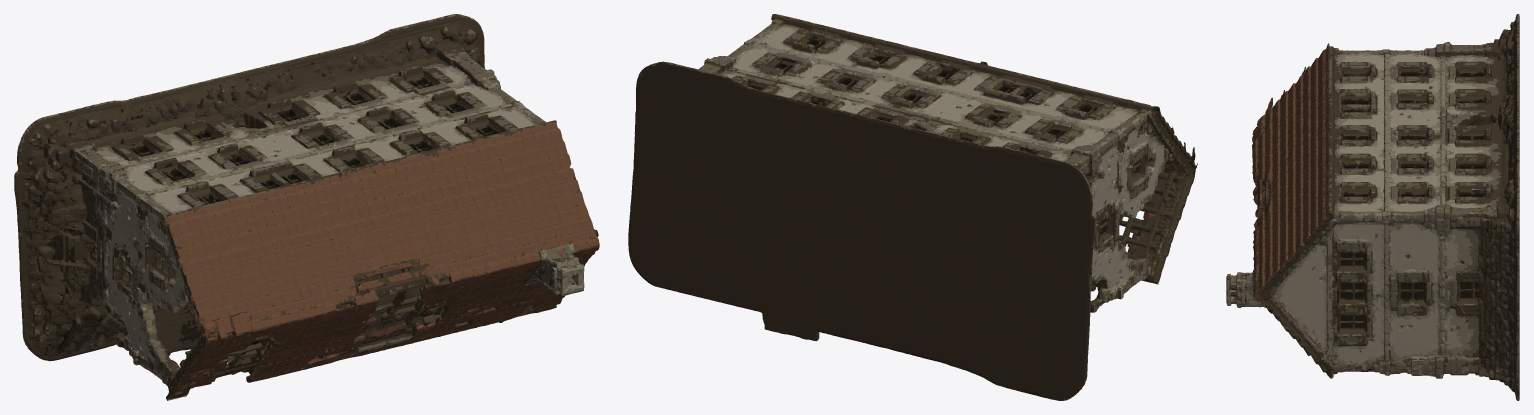
File: casa-lenha.glb
3 renders of one model, left to right at view 1: azimuth 30°, elevation 25°; view 2: azimuth 150°, elevation 25°; view 3: azimuth 270°, elevation 25°, orthographic. The views are drawn at different scales.
Visible parts, largest first — view 1: casa-lenha.glb; view 2: casa-lenha.glb; view 3: casa-lenha.glb.
Part boxes in pixels (<box>): casa-lenha.glb: <box>14,14,599,400</box>; casa-lenha.glb: <box>628,14,1197,400</box>; casa-lenha.glb: <box>1226,14,1519,400</box>.
Bounding box in the file's own units: 99.96 × 49.79 × 60.18.
